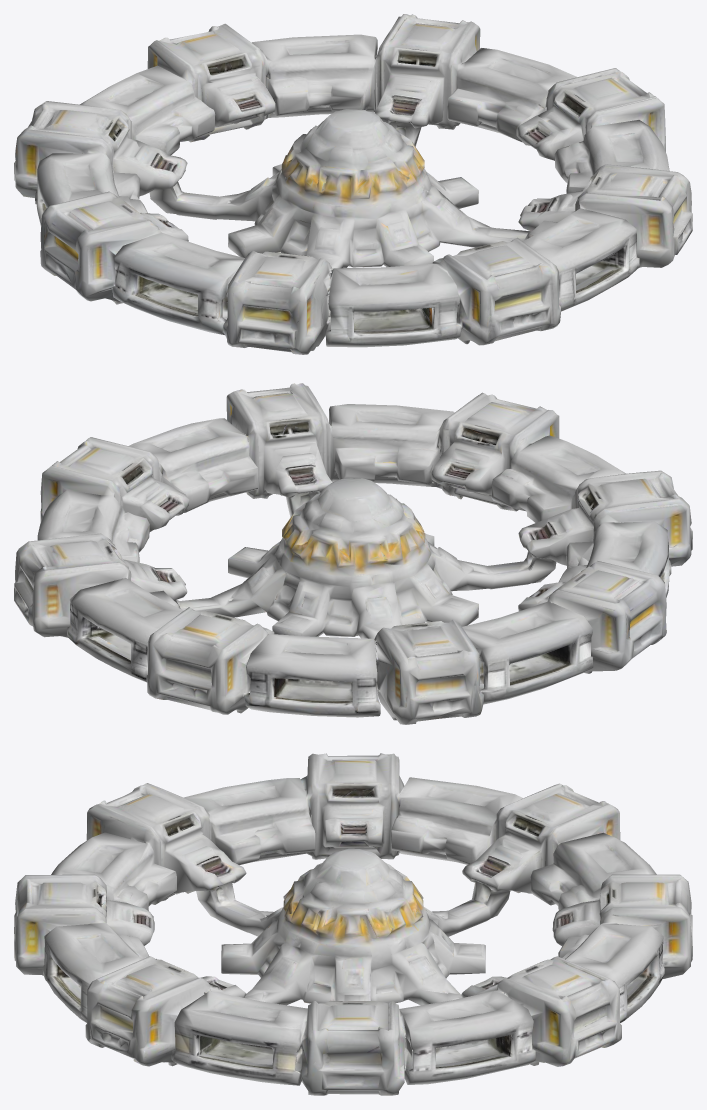
File: friendly_station.repacked.glb
3 renders of one model, top to bottom at view 1: azimuth 30°, elevation 25°; view 2: azimuth 150°, elevation 25°; view 3: azimuth 270°, elevation 25°, orthographic.
Visible parts, largest first — view 1: Mesh1.0; view 2: Mesh1.0; view 3: Mesh1.0.
Part boxes in pixels (<box>): Mesh1.0: <box>14,14,692,354</box>; Mesh1.0: <box>14,383,692,724</box>; Mesh1.0: <box>14,753,692,1095</box>.
Size of the model in its own units: 1.91 by 0.3753 by 1.91.
Materials: 1 (1 with a texture image).
